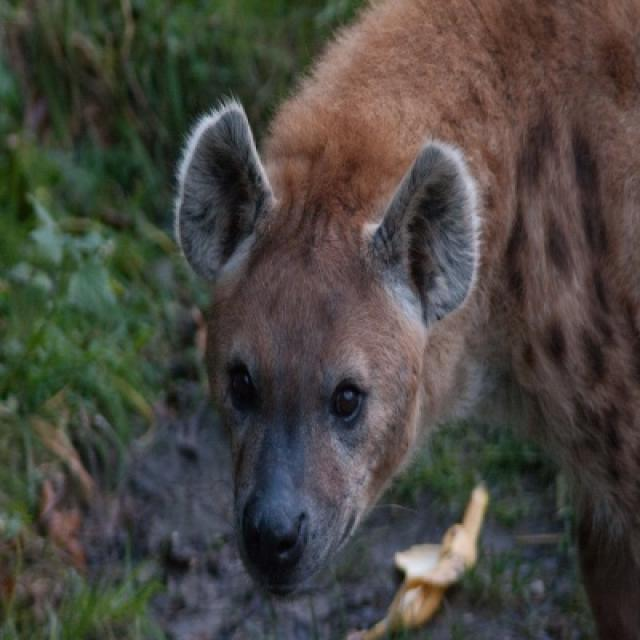hyena: (174, 0, 638, 638)
